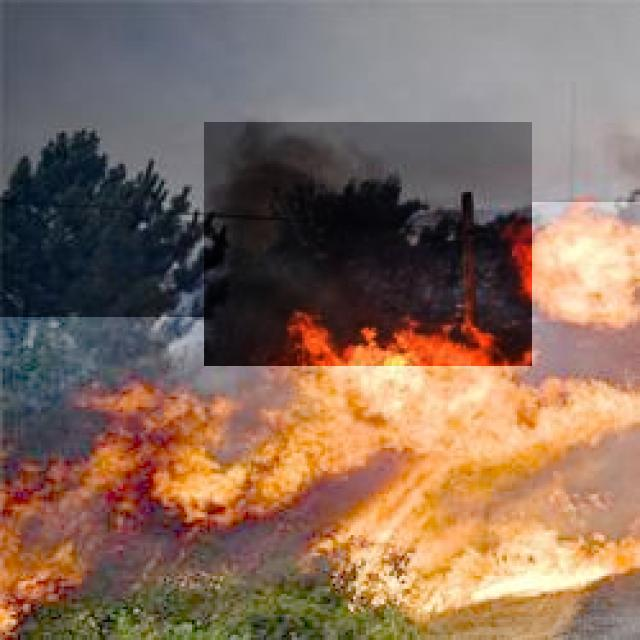Fire: (0, 317, 640, 640), (499, 202, 640, 322)
Smoke: (204, 122, 532, 366)
